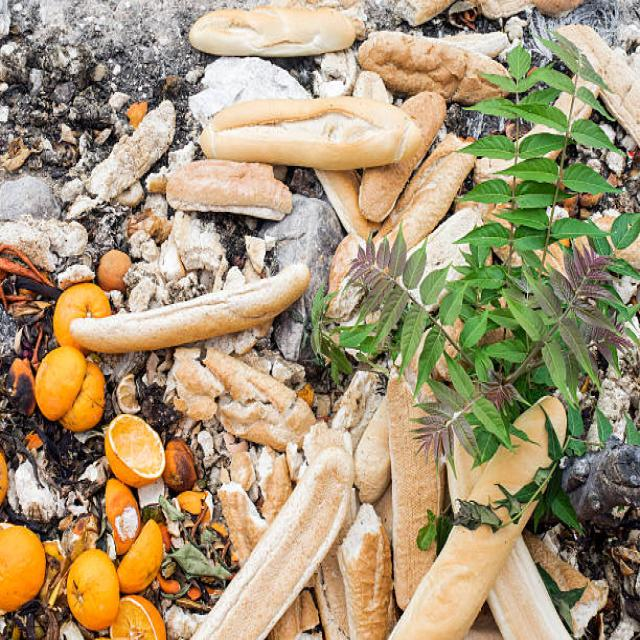trash: (16, 49, 619, 587)
